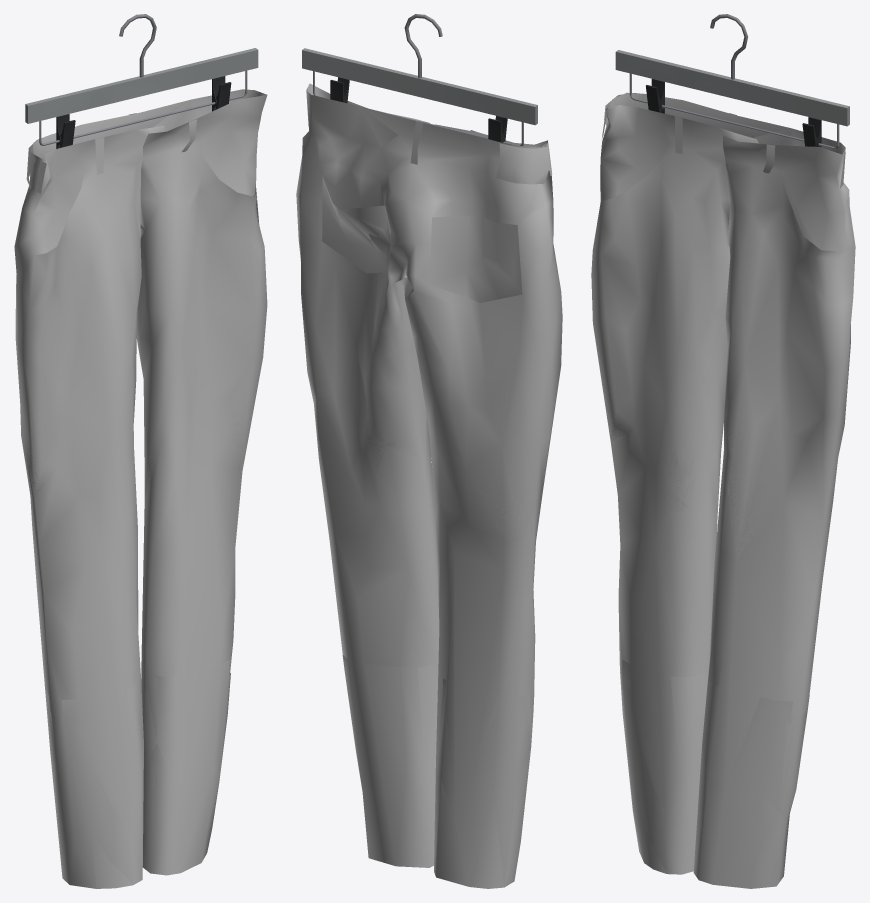
Rendered from jeans.FBX.
3 views of the same model, side by side, from view 1: azimuth 30°, elevation 25°; view 2: azimuth 150°, elevation 25°; view 3: azimuth 330°, elevation 25° (orthographic).
Visible parts, largest first — view 1: jeans_LOD0, _Hanger-4_LOD0; view 2: jeans_LOD0, _Hanger-4_LOD0; view 3: jeans_LOD0, _Hanger-4_LOD0.
Boxes of the visible parts, x1,y1,x2,y2 form: jeans_LOD0: (14, 89, 267, 888); _Hanger-4_LOD0: (25, 14, 258, 148); jeans_LOD0: (296, 83, 562, 888); _Hanger-4_LOD0: (302, 14, 537, 145); jeans_LOD0: (591, 92, 855, 888); _Hanger-4_LOD0: (615, 14, 849, 149).
Size of what is drawn, in the model's own units: 34.28 by 13.64 by 112.
